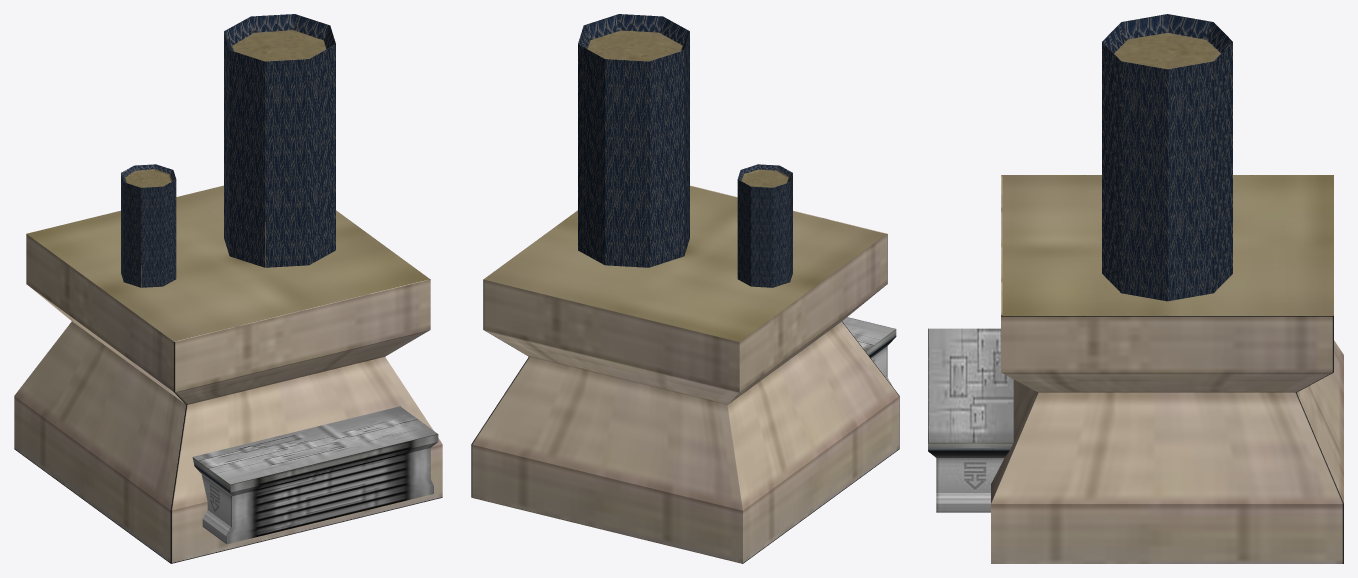
Rendered from smokestack.fbx.
3 views of the same model, side by side, from view 1: azimuth 30°, elevation 25°; view 2: azimuth 150°, elevation 25°; view 3: azimuth 270°, elevation 25° (orthographic). The views are drawn at different scales.
Parts seen in each view (by area): view 1: Cylinder; view 2: Cylinder; view 3: Cylinder.
Boxes of the visible parts, x1,y1,x2,y2 form: Cylinder: (14, 14, 442, 563); Cylinder: (471, 14, 899, 563); Cylinder: (928, 14, 1343, 563).
Size of the model in its own units: 547 by 814 by 645.
Materials: 3 (3 with a texture image).
